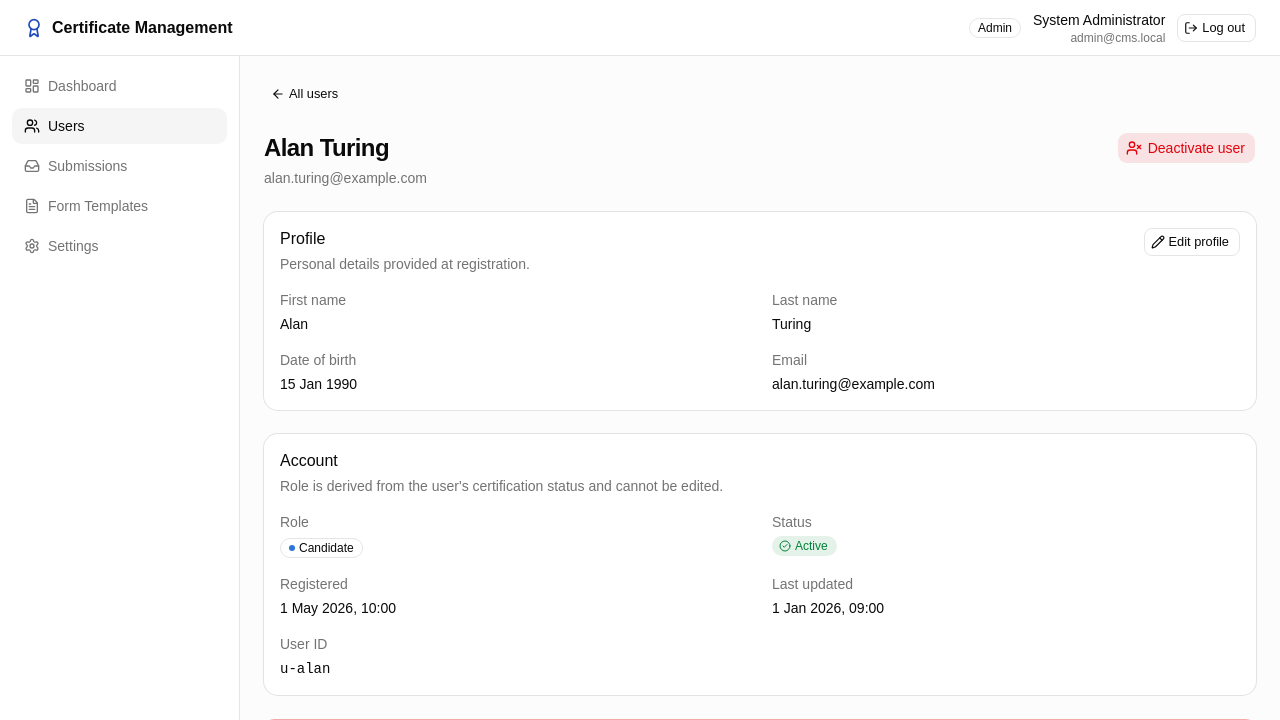
Test: user details › edits the profile and confirms success
Click the button "Edit profile".
click(1192, 242)  # box [1144,228,1240,256]
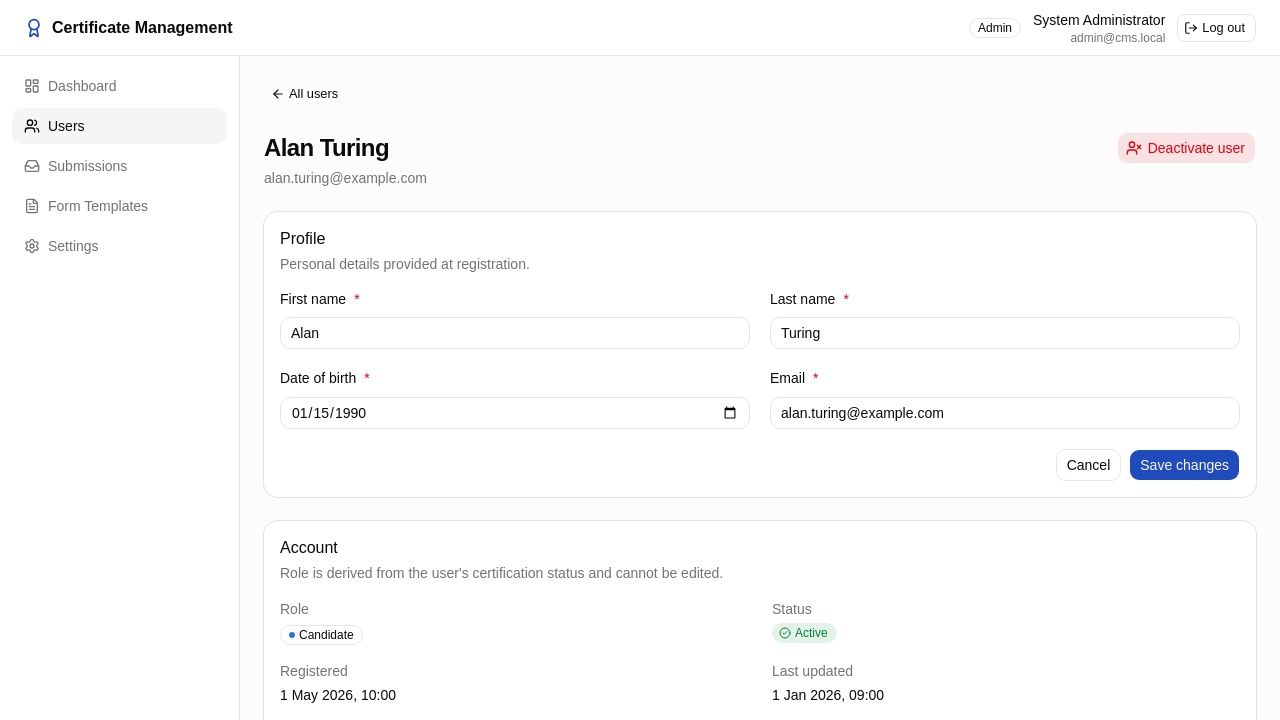
Replace the text in the field labelled "First name *" with "Alana" at (515, 333), box [280,317,750,349]
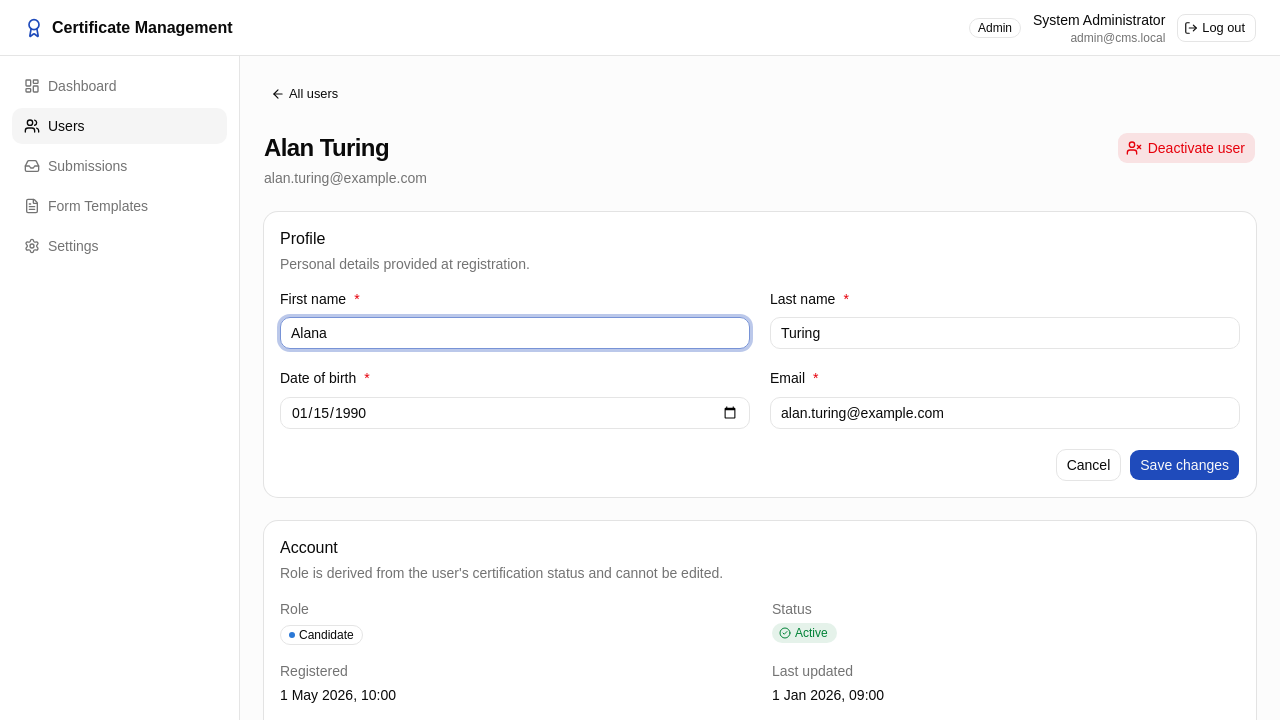
Replace the text in the field labelled "Email *" with " Alana.Turing@Example.COM " at (1005, 412), box [770,396,1240,428]
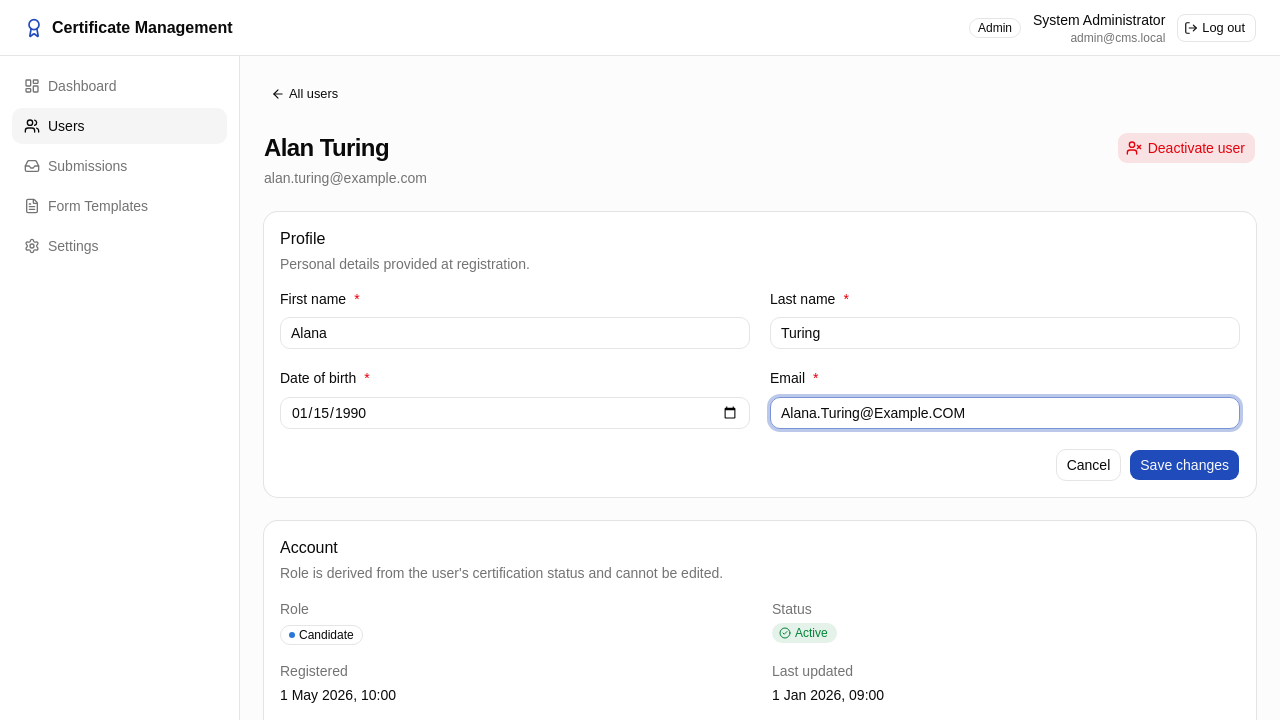
Click the button "Save changes".
click(1185, 464)  # box [1129,448,1240,480]
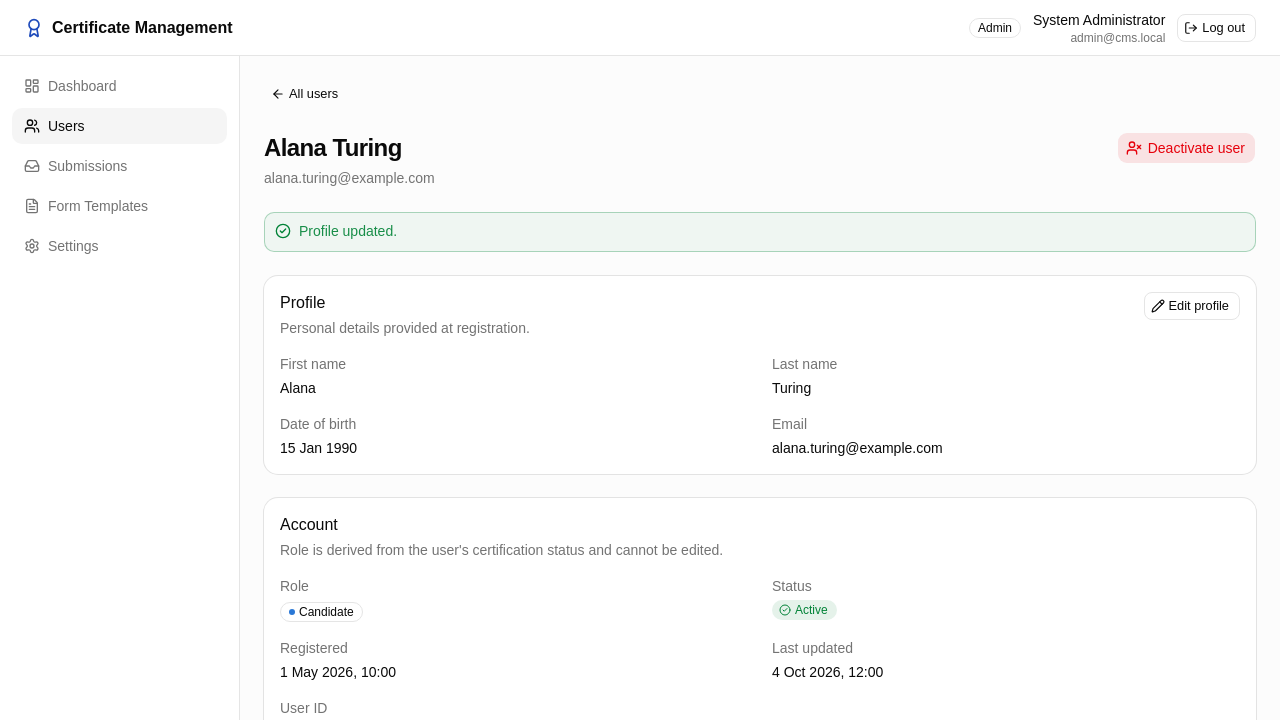
Expected: the text "Profile updated." is shown, [299,223,397,239]
Expected: the heading "Alana Turing" is shown, [264,134,402,161]
Expected: the text "alana.turing@example.com" below "Alana Turing" is shown, [264,170,435,186]
